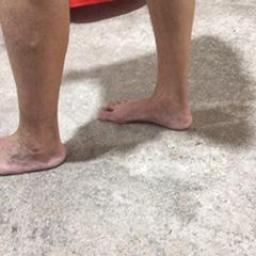Medial View -Right Foot-: (93, 66, 197, 139)
